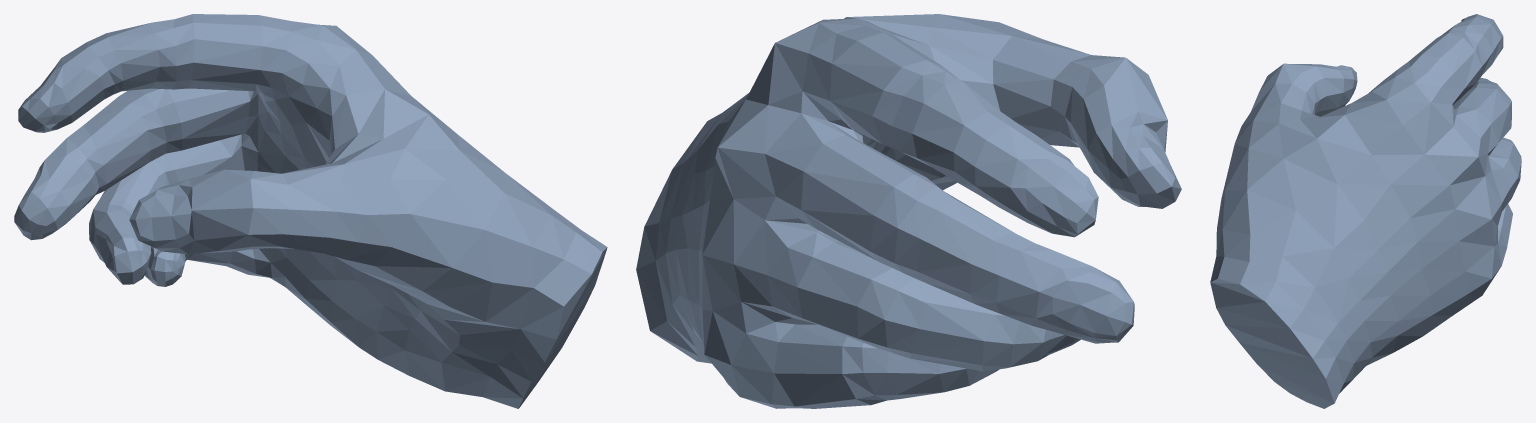
The picture shows the model from 3 angles, left to right: view 1: azimuth 30°, elevation 25°; view 2: azimuth 150°, elevation 25°; view 3: azimuth 270°, elevation 25°; orthographic projection. The views are drawn at different scales.
Bounding box in the file's own units: 0.1487 × 0.1078 × 0.1086.
